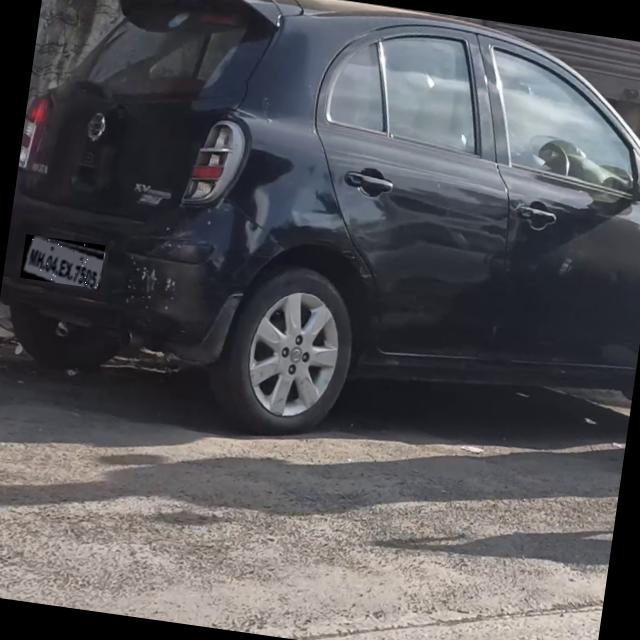Plate: (21, 235, 106, 290)
